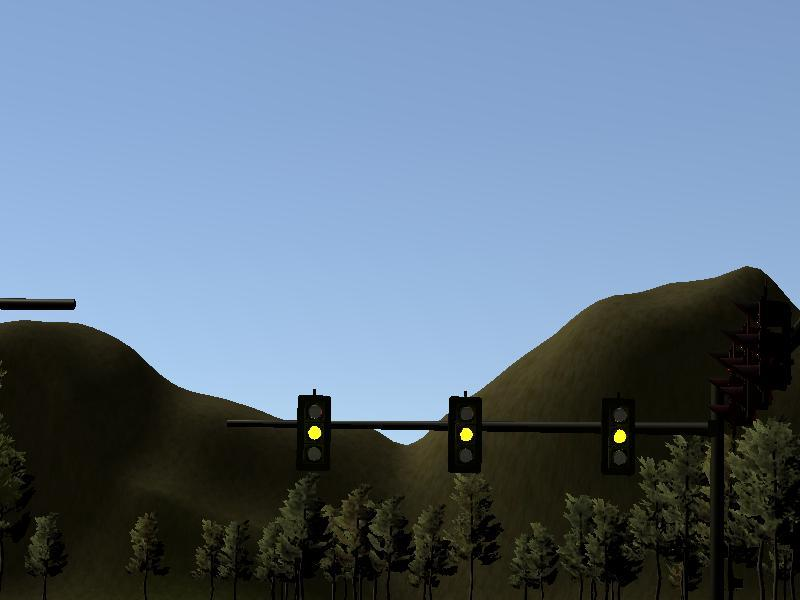Yellow: (602, 399, 636, 477), (448, 397, 482, 473), (297, 395, 331, 470)
